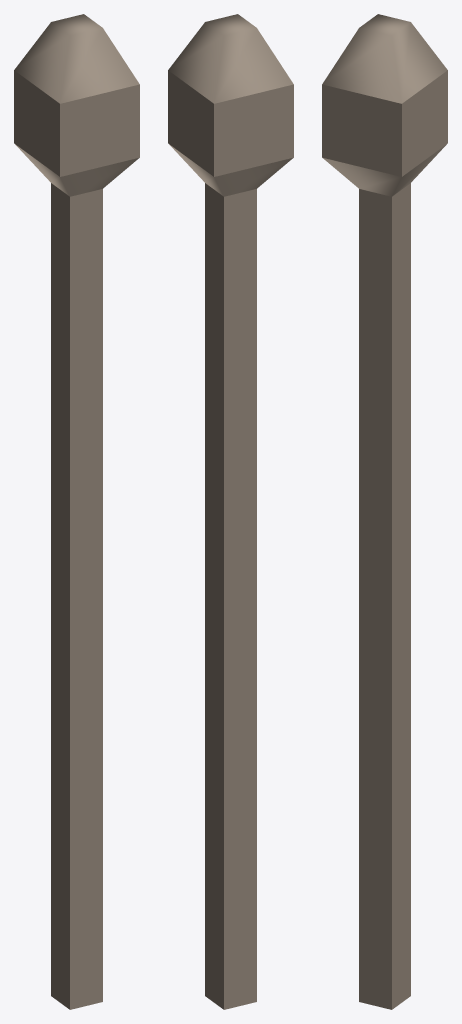
File: streelight.fbx
3 renders of one model, left to right at view 1: azimuth 30°, elevation 25°; view 2: azimuth 210°, elevation 25°; view 3: azimuth 330°, elevation 25°, orthographic.
Parts seen in each view (by area): view 1: streetlight; view 2: streetlight; view 3: streetlight.
Part boxes in pixels (x1,y1,x2,y2): streetlight: (14,14,139,1009); streetlight: (168,14,293,1009); streetlight: (322,14,447,1009).
Bounding box in the file's own units: 109 × 1273 × 109.
